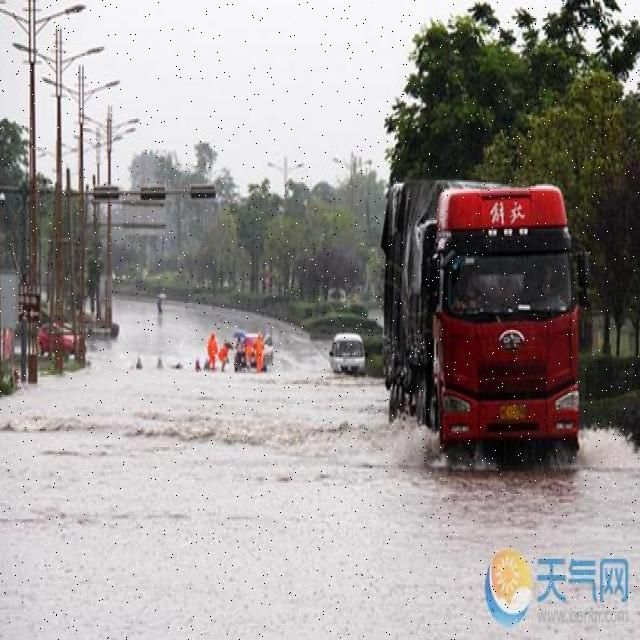rescuer: (251, 330, 273, 379), (196, 333, 221, 372), (241, 328, 254, 378), (218, 336, 235, 369)
